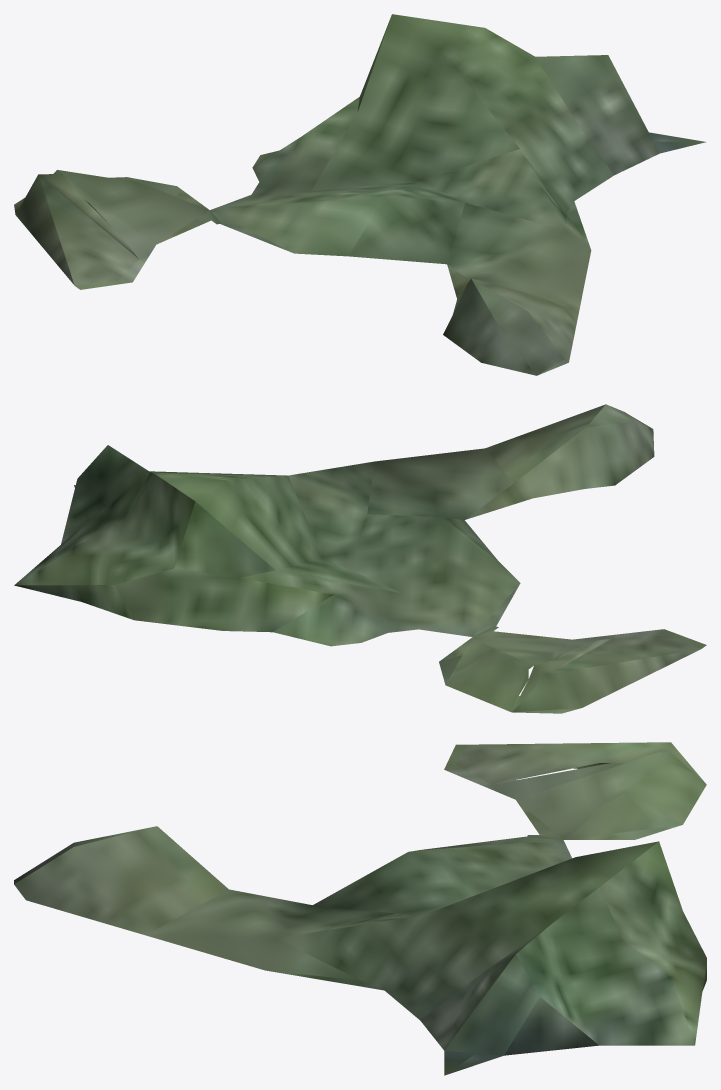
3 renders of one model, top to bottom at view 1: azimuth 30°, elevation 25°; view 2: azimuth 150°, elevation 25°; view 3: azimuth 270°, elevation 25°, orthographic. The views are drawn at different scales.
Visible parts, largest first — view 1: 30436272704370635516_0; view 2: 30436272704370635516_0; view 3: 30436272704370635516_0.
Part boxes in pixels (x1,y1,x2,y2): 30436272704370635516_0: (14, 14, 706, 375); 30436272704370635516_0: (14, 404, 706, 713); 30436272704370635516_0: (14, 742, 706, 1075).
Bounding box in the file's own units: 10.12 × 1.7 × 8.95.
1 material, 1 textured.
